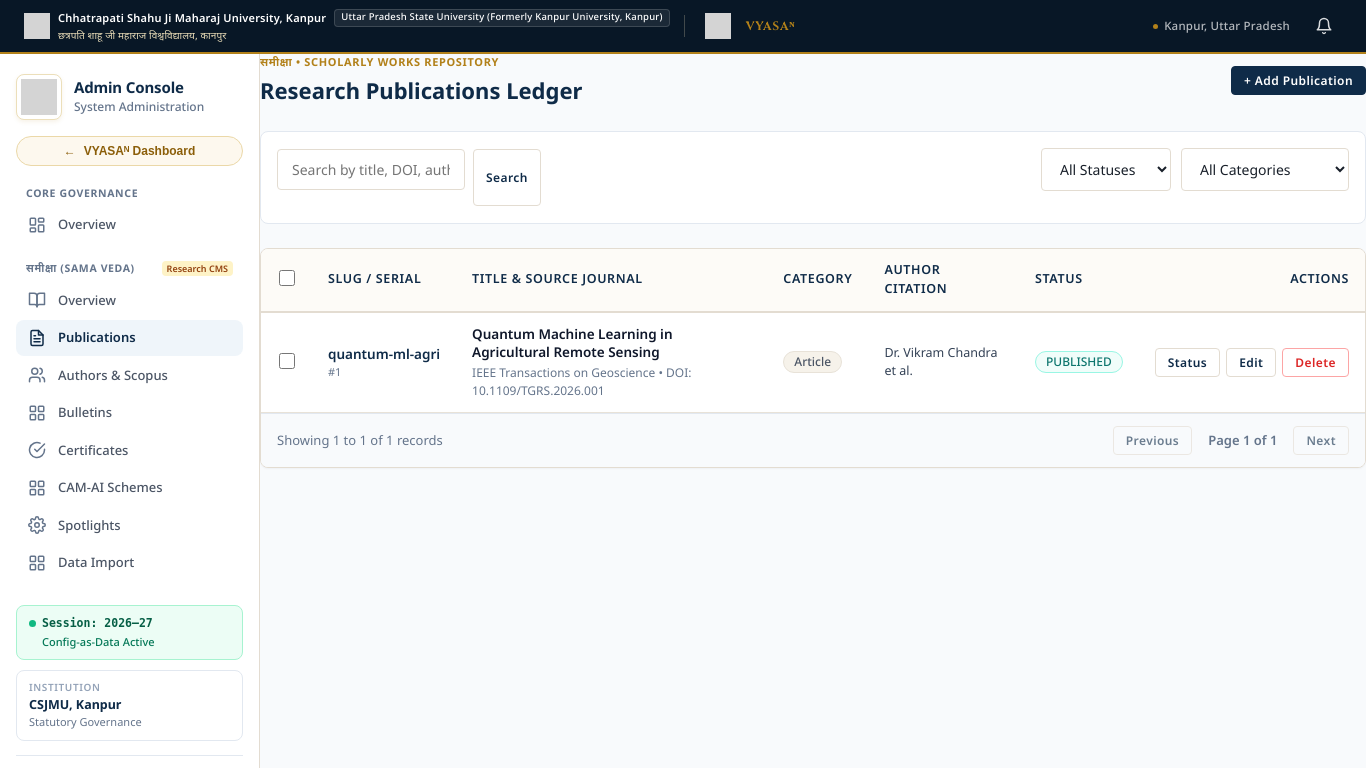
Scenario: Sama Veda CMS Admin Pages Suite › PublicationsPage › supports multi-selection and bulk status update for authorized admin
The width and height of the screenshot is (1366, 768).
Later steps or results of the test are not shown.
Expected: the text "Quantum Machine Learning in Agricultural Remote Sensing" is shown, [472,324,673,361]
// Select row 1
Click the checkbox named "Select publication quantum-ml-agri" at (287, 361), box [279,353,295,369]
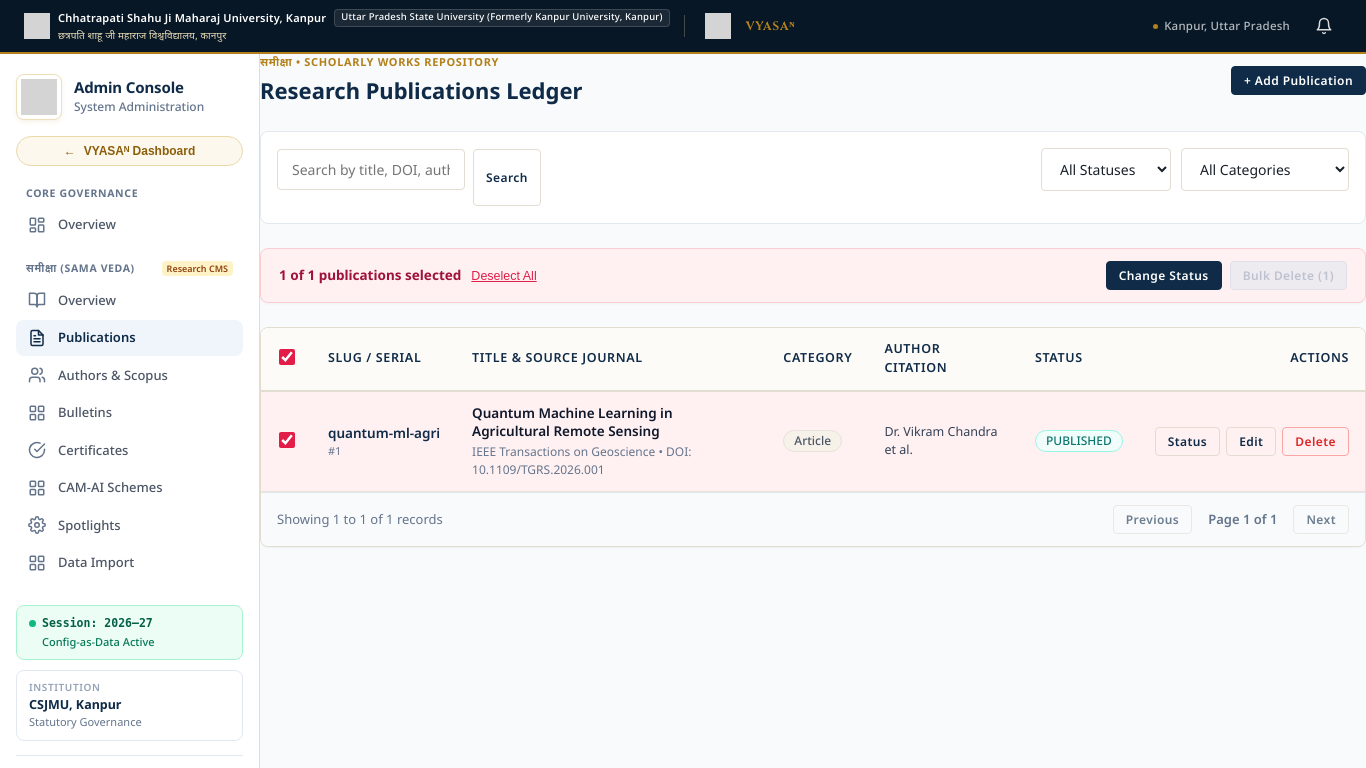
Now the element with test id "bulk-actions-banner" is shown, box [260,248,1365,303]
Now the button "Change Status" is enabled
Click the button "Change Status" at (1164, 276), box [1106,261,1222,290]
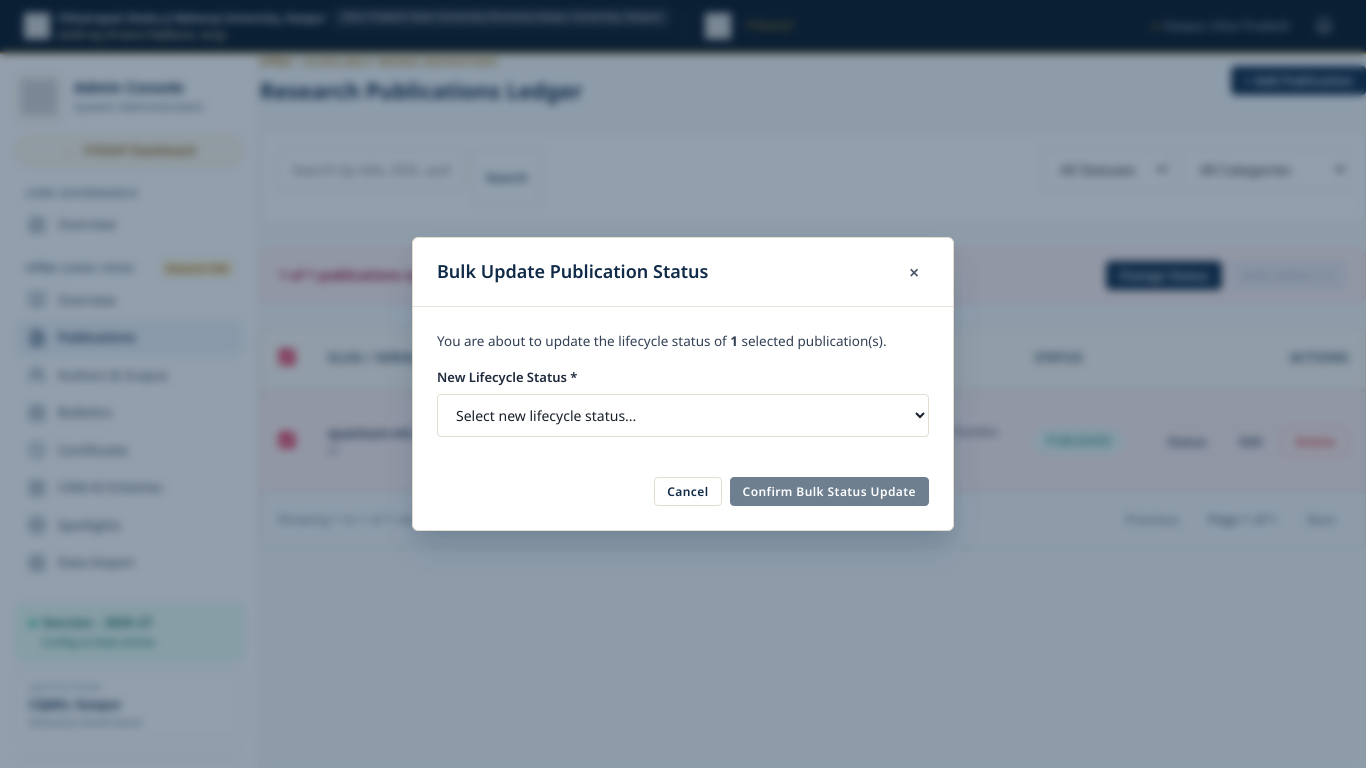
Now the element with test id "bulk-status-modal" is shown, box [437,331,929,506]
Now the text "You are about to update the lifecycle status of" is shown, box [437,332,730,350]
Now the button "Confirm Bulk Status Update" is disabled, box [730,477,929,506]
// Select target status
Select "Archived — Retired from active catalog" in the dropdown with test id "bulk-status-select" at (683, 416), box [437,394,929,437]
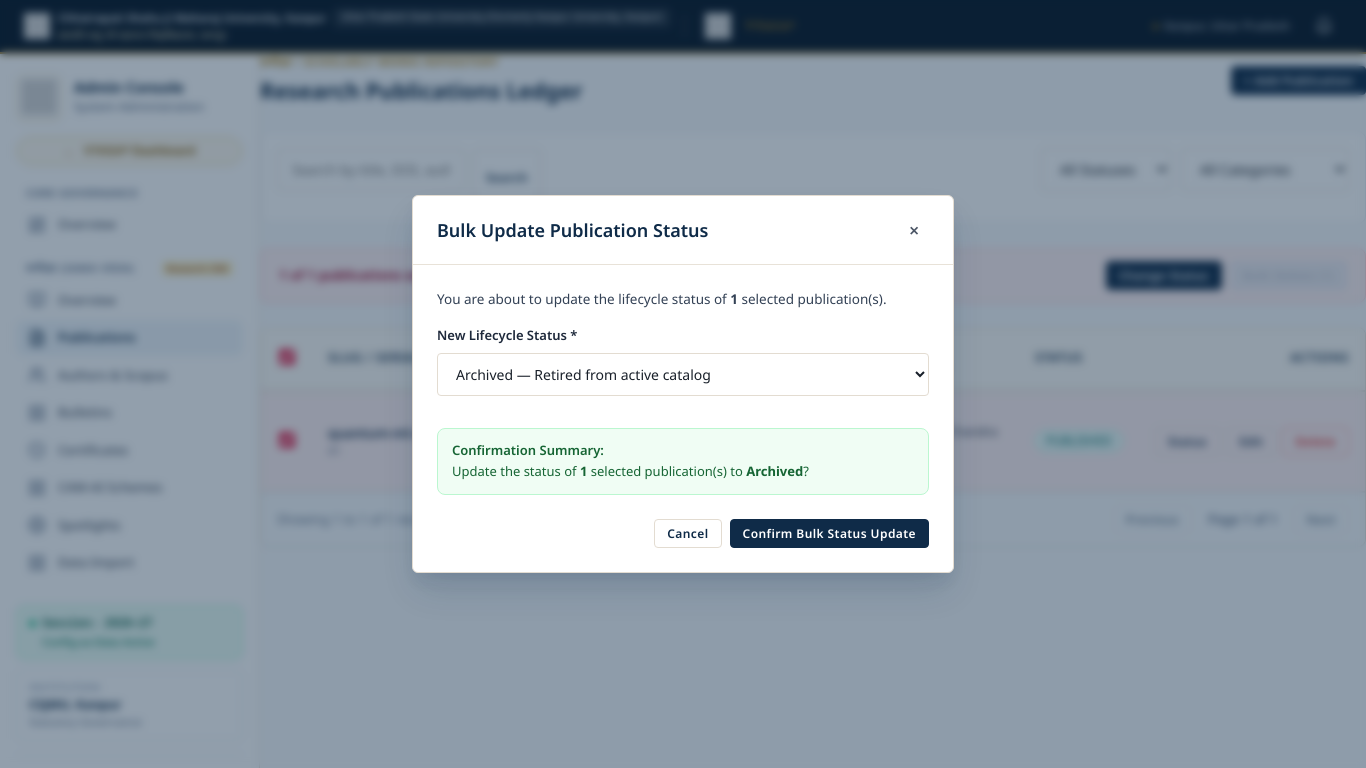
Now the text "Confirmation Summary:" is shown, box [452,441,604,459]
Now the button "Confirm Bulk Status Update" is enabled, box [730,519,929,548]
